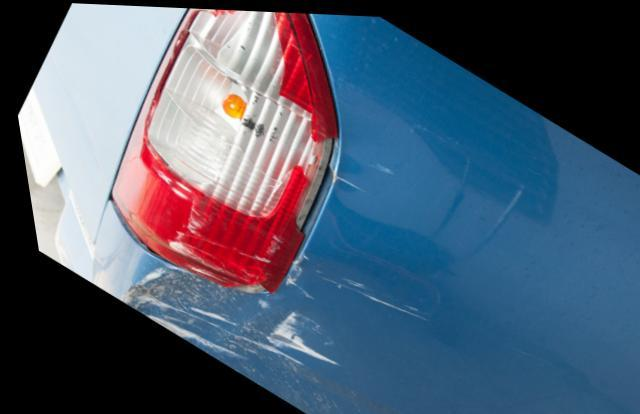lamp broken: (102, 7, 337, 298)
scratch: (107, 246, 427, 414)
